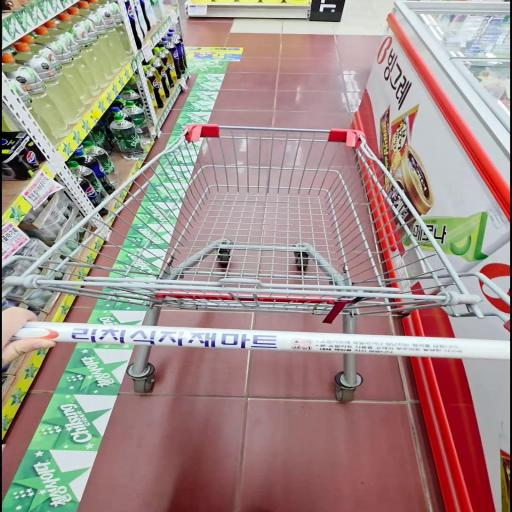empty_cart: (0, 122, 512, 400)
